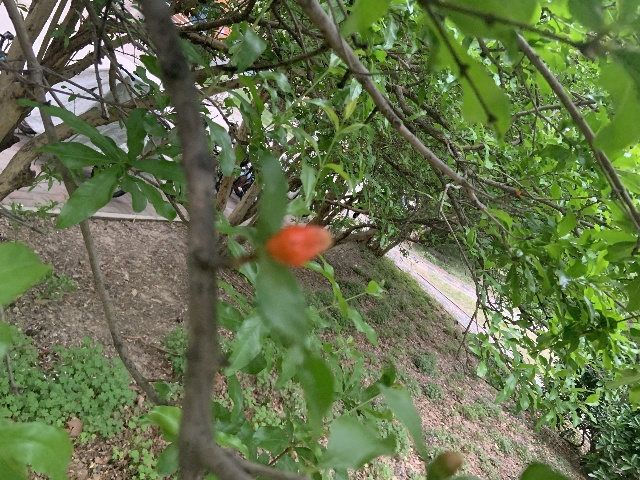bud: (265, 224, 332, 268)
